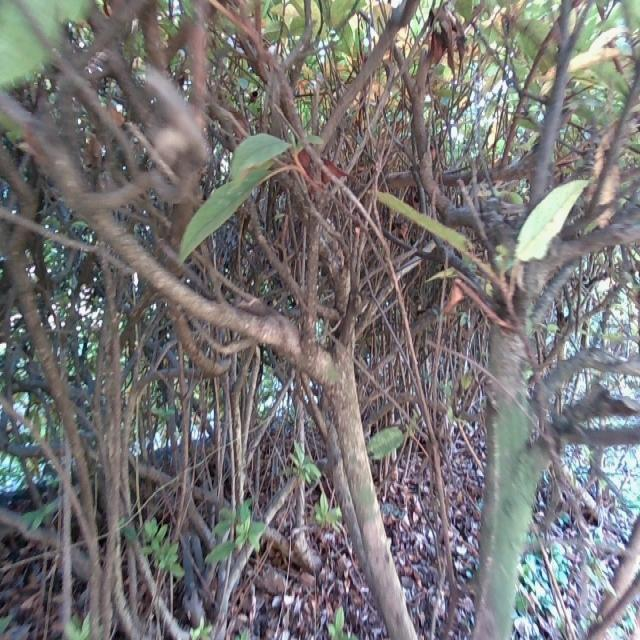bush: (1, 0, 635, 640)
